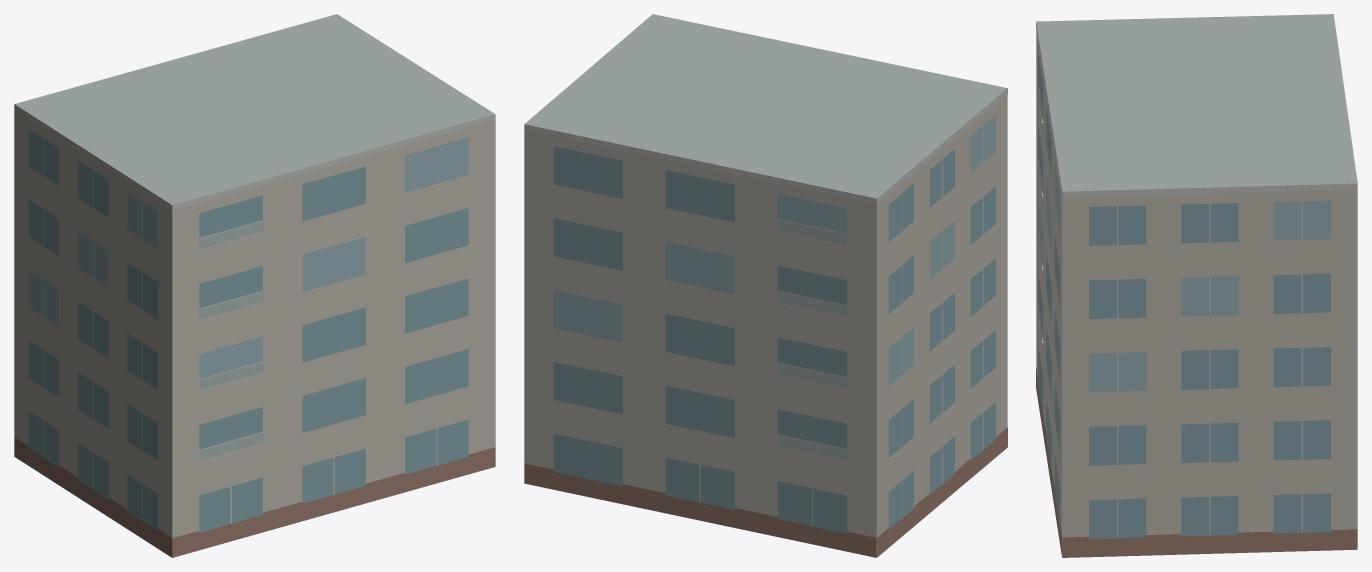
File: survey-upis-32698609.glb
3 renders of one model, left to right at view 1: azimuth 30°, elevation 25°; view 2: azimuth 150°, elevation 25°; view 3: azimuth 270°, elevation 25°, orthographic. The views are drawn at different scales.
Visible parts, largest first — view 1: survey-upis-32698609.tmp; view 2: survey-upis-32698609.tmp; view 3: survey-upis-32698609.tmp.
Boxes of the visible parts, left/top/right/bottom form: survey-upis-32698609.tmp: left=14, top=14, right=495, bottom=557; survey-upis-32698609.tmp: left=524, top=14, right=1007, bottom=557; survey-upis-32698609.tmp: left=1036, top=14, right=1357, bottom=557.
Bounding box in the file's own units: 15.88 × 15.25 × 12.15.
